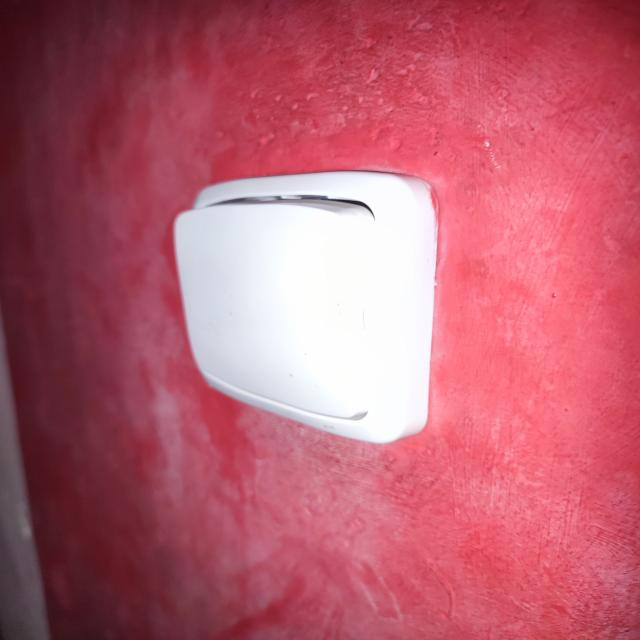house switch: (172, 170, 438, 444)
